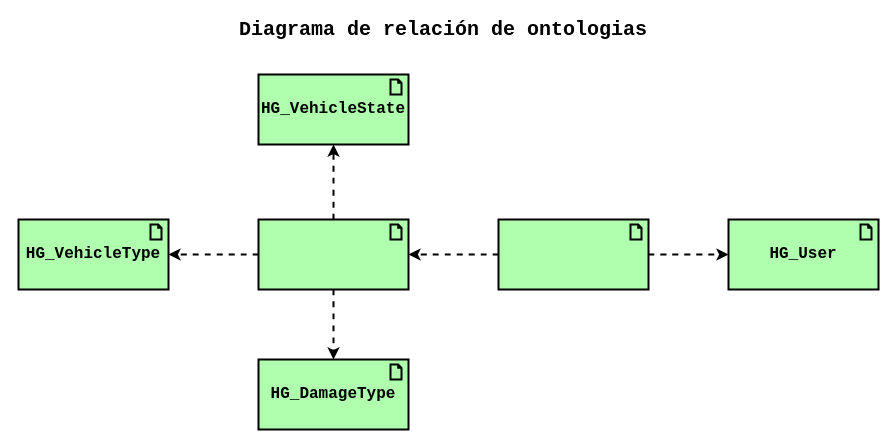
Some shapes in this 896 by 447 pixel diagram are drawn without their labels. Here are the shapes that lost their labels. From the top down, the box of each, then its label:
(257, 218, 409, 290): HG_Vehicle
(497, 218, 649, 290): HG_VehicleUse
